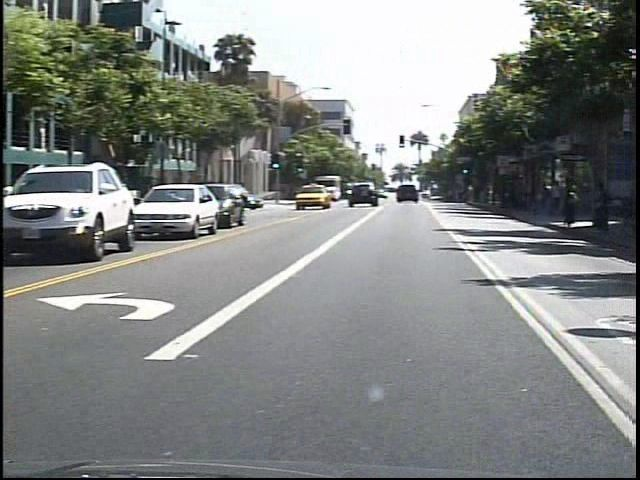person: (568, 166, 591, 231), (559, 179, 574, 218)
